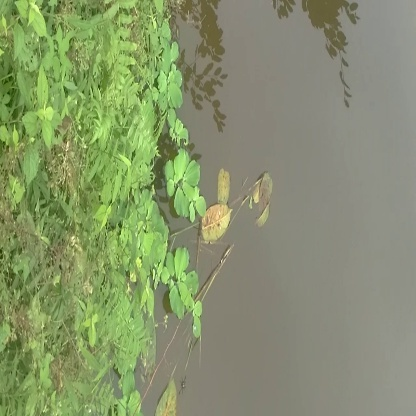leaf: (193, 199, 240, 248)
